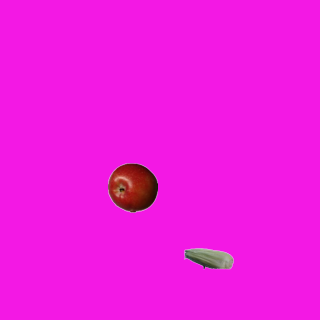Apple Braeburn: (107, 162, 157, 212)
Corn Husk: (183, 233, 233, 283)
